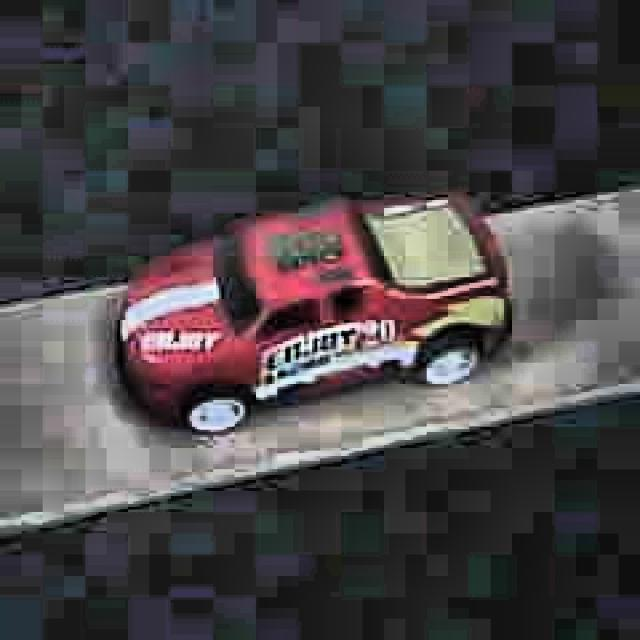car: (114, 188, 514, 434)
